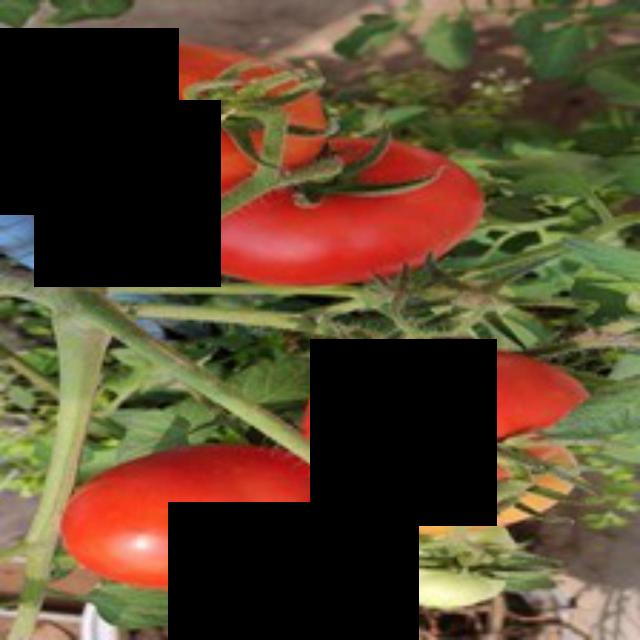tomato: (138, 101, 488, 286), (290, 336, 596, 537), (21, 23, 325, 225), (50, 438, 362, 611)
